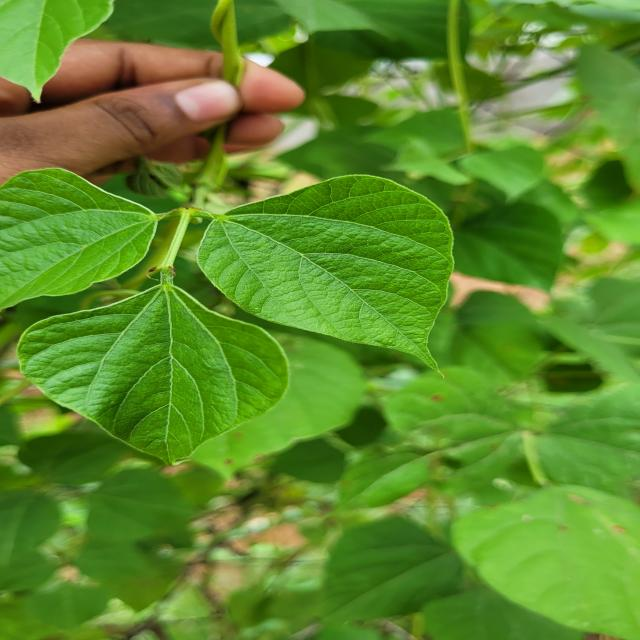Dolicos bean_healthy: (15, 283, 289, 476), (196, 169, 457, 369), (0, 170, 159, 310), (429, 202, 574, 288)
